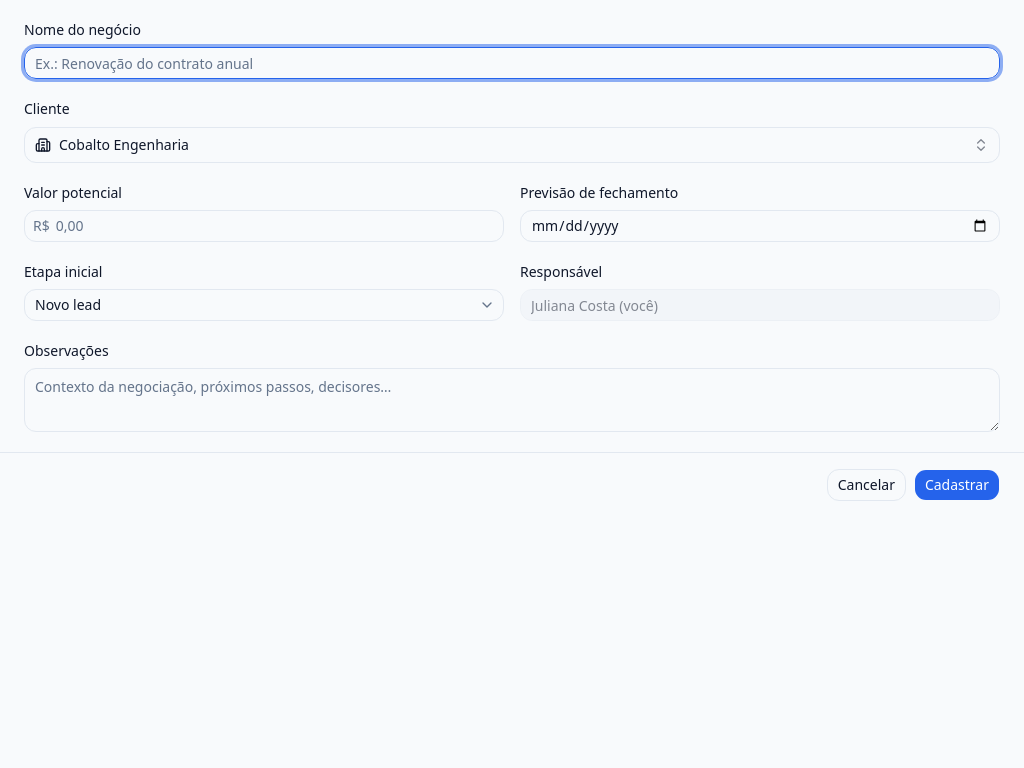
DealForm › exibe nos campos os erros de validação devolvidos pela API
Type "Piloto" into the field labelled "Nome do negócio" at (512, 63), box x1=24 y1=47 x2=1000 y2=79
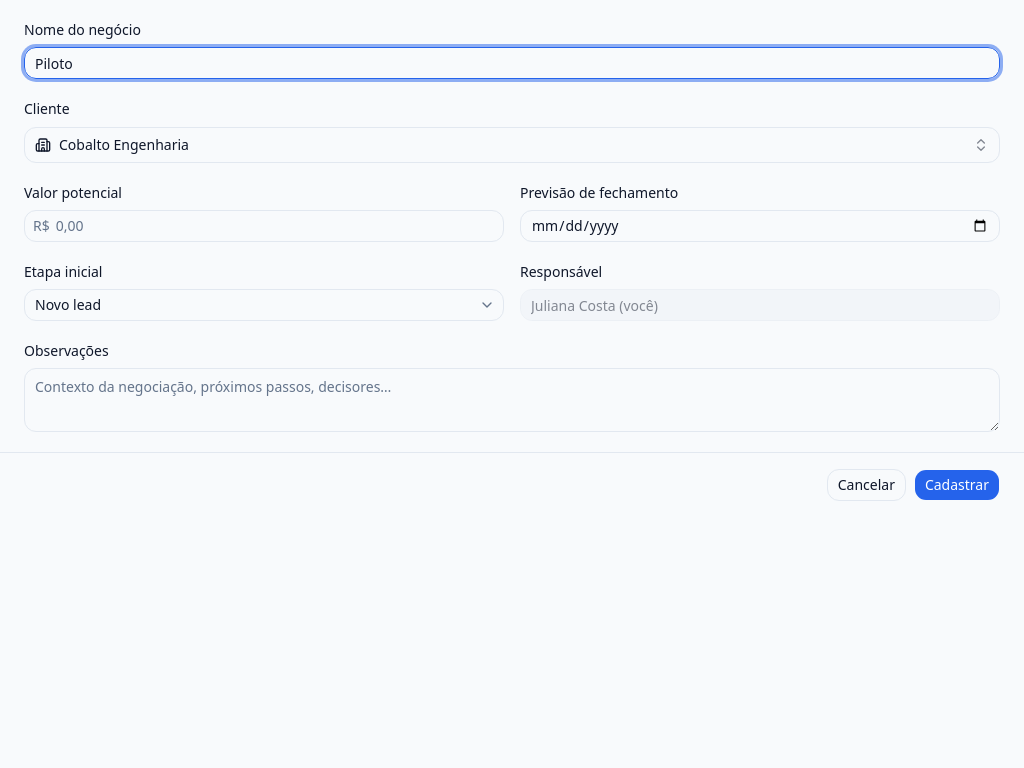
Type "500" into the field labelled "Valor potencial" at (276, 226), box x1=50 y1=210 x2=503 y2=242
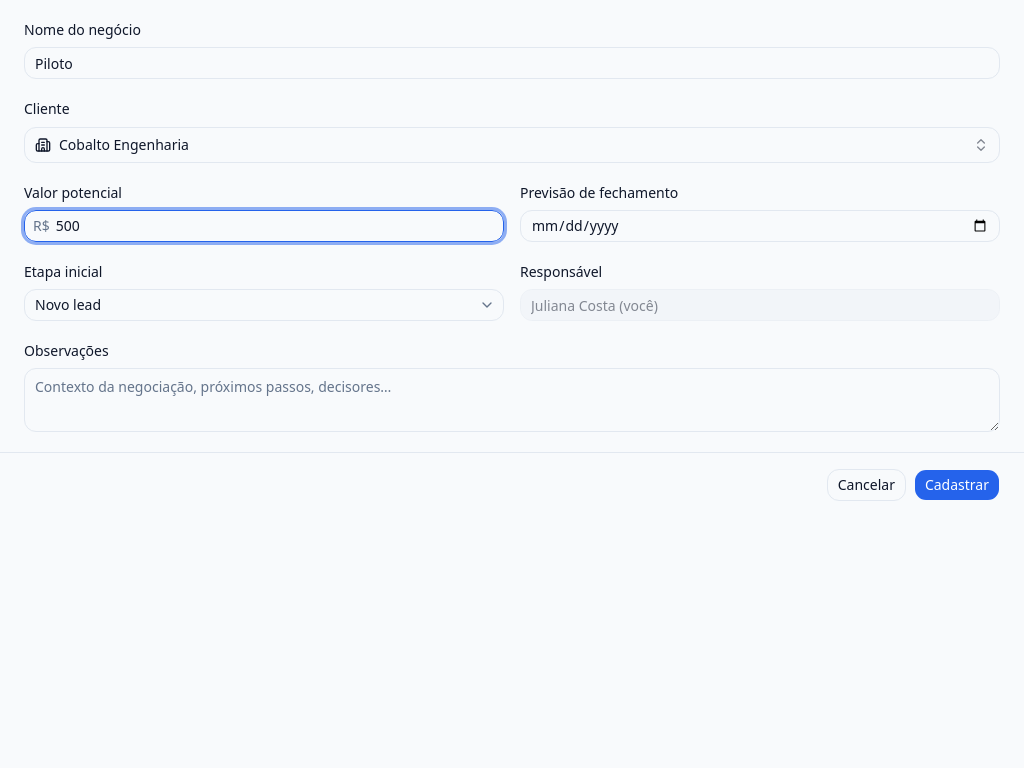
Click the button "Cadastrar" at (957, 485), box x1=914 y1=469 x2=1000 y2=501
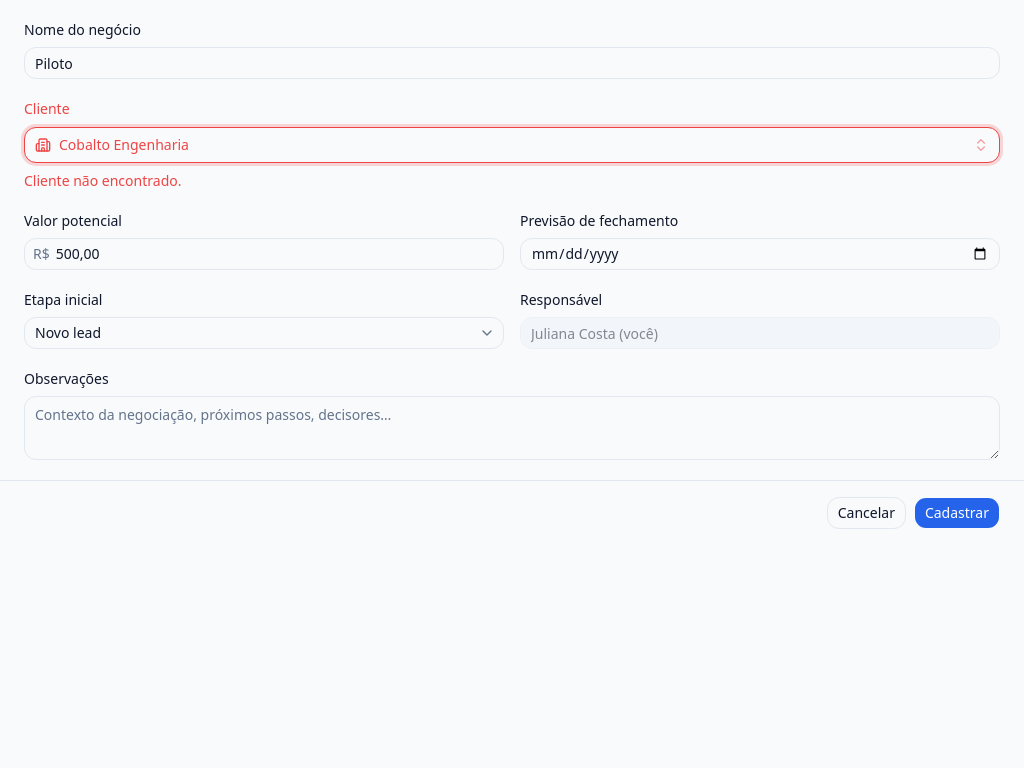
Expected: the text "Cliente não encontrado." is shown, x1=24 y1=170 x2=182 y2=190
